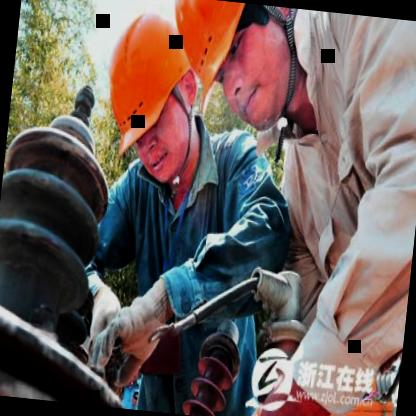helmet: (94, 0, 231, 192), (167, 0, 306, 139)
